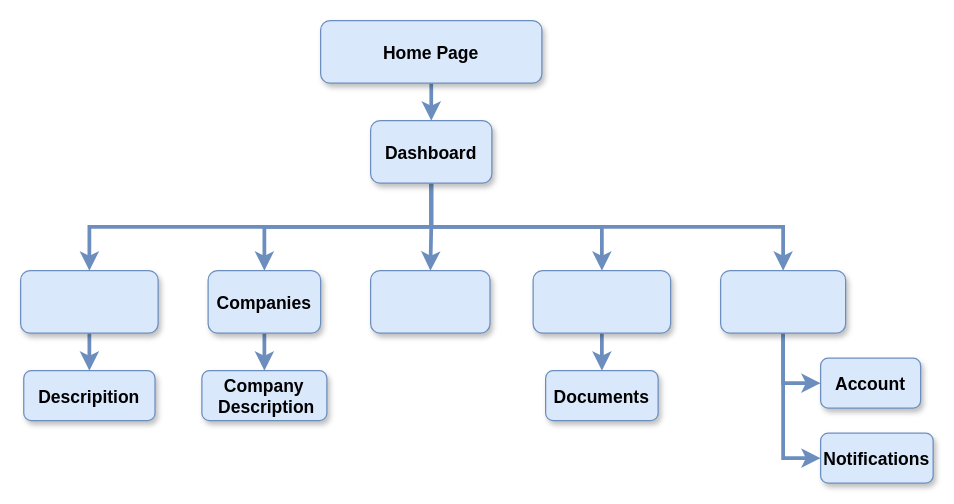
The diagram is 954 pixels wide and 504 high, and some of its shapes have lost their labels. The centre of each missing label's shape, as x and y in pixels:
Applications: (431,303)
Internships: (90,303)
Profile: (602,303)
Settings: (783,303)
